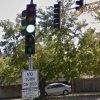Traffic light: (15, 4, 65, 71)
